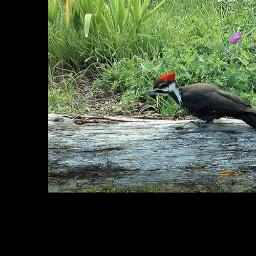Woodpecker: (142, 72, 256, 133)
